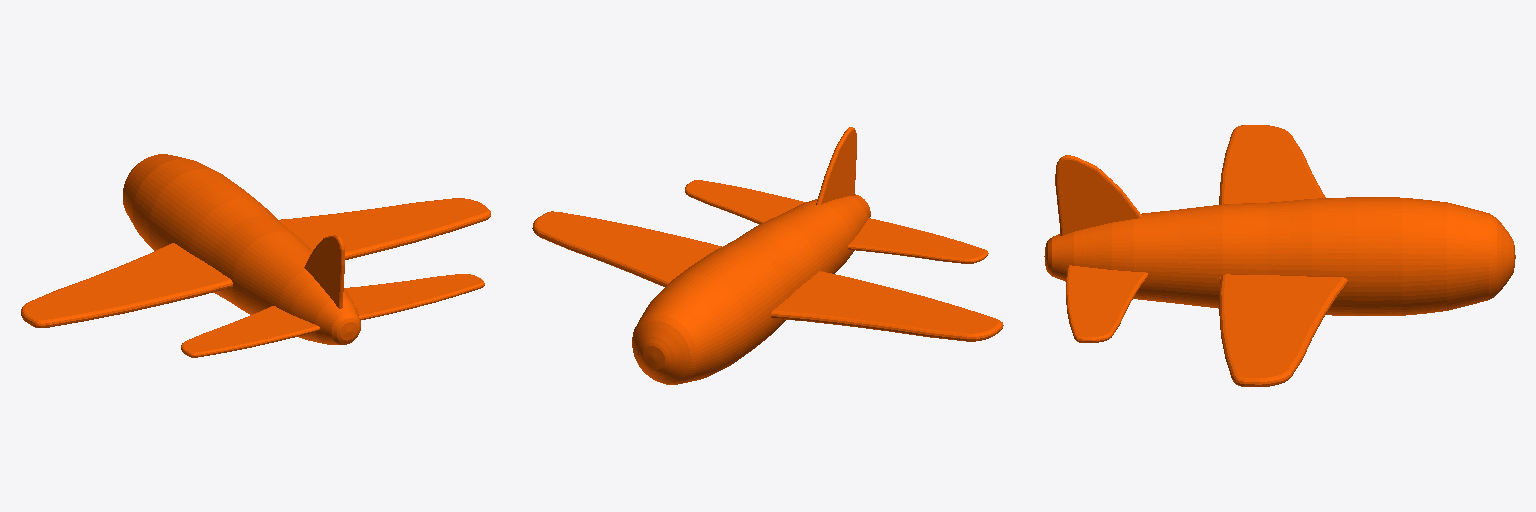
URDF robot description (airplane):
<?xml version="1.0" ?>
<robot name="airplane">
   <material name="obj_color">
      <color rgba="1.0 0.423529411765 0.0392156862745 1.0"/>
   </material>
   <link name="top">
      <inertial>
         <origin rpy="8.509884271078642e-05 0.0002324663163155194 0.0002950551404128682" xyz="0.0004558391351744539 0.004660349116225262 -0.007405677519566435"/>
         <mass value="0.2061405347223009"/>
         <inertia ixx="0.0002324654618003734" ixy="3.556938426788657e-07" ixz="1.206913231502883e-08" iyy="8.511226252101969e-05" iyz="1.623963499137633e-06" izz="0.000295042575117781"/>
      </inertial>
      <visual>
         <origin rpy="0 0 0" xyz="0 0 0"/>
         <geometry>
            <mesh filename="top_watertight_tiny.stl" scale="1 1 1"/>
         </geometry>
         <material name="obj_color"/>
      </visual>
      <collision>
         <origin rpy="0 0 0" xyz="0 0 0"/>
         <geometry>
            <mesh filename="top_watertight_tiny.obj" scale="1 1 1"/>
         </geometry>
      </collision>
   </link>
   <link name="bottom">
      <inertial>
         <origin rpy="1.633333333194242e-08 1.633333333194243e-08 1.633333333357667e-08" xyz="0.3464080000000008 0.3464080000000008 0.3464080000000008"/>
         <mass value="0.0009800000000000017"/>
         <inertia ixx="1.633333333248717e-08" ixy="5.447480642029219e-19" ixz="5.447480642029219e-19" iyy="1.633333333248717e-08" iyz="5.447480642029219e-19" izz="1.633333333248717e-08"/>
      </inertial>
      <visual>
         <origin rpy="0 0 0" xyz="0 0 0"/>
         <geometry>
            <mesh filename="bottom_watertight_tiny.stl" scale="1 1 1"/>
         </geometry>
         <material name="obj_color"/>
      </visual>
   </link>
   <joint name="rotation" type="revolute">
      <origin xyz="0 0 0"/>
      <axis xyz="0 0 -1"/>
      <parent link="bottom"/>
      <child link="top"/>
      <dynamics damping="1.0" friction="1.0"/>
      <limit effort="0.1" velocity="0.1" lower="0" upper="0.001"/>
   </joint>
</robot>

--- Facts derived from the render (not from the file) ---
3 views of the same robot in one strip: view 1: azimuth 30°, elevation 25°; view 2: azimuth 150°, elevation 25°; view 3: azimuth 270°, elevation 25° (orthographic).
Model airplane with 2 links and 1 joints (1 revolute), rooted at bottom, posed all joints at 0.
Visible links, largest first — view 1: top; view 2: top; view 3: top.
Link boxes in pixels (x1=…): top: x1=21, y1=154, x2=490, y2=357; top: x1=532, y1=127, x2=1003, y2=384; top: x1=1044, y1=125, x2=1515, y2=386.
Size in the robot's own frame: 0.1784 by 0.138 by 0.0499 metres.
Meshes: 2 distinct files referenced, 1 mesh visuals loaded (1 binary STL); not drawn: 1 (reference not matched to a file when rendering).
